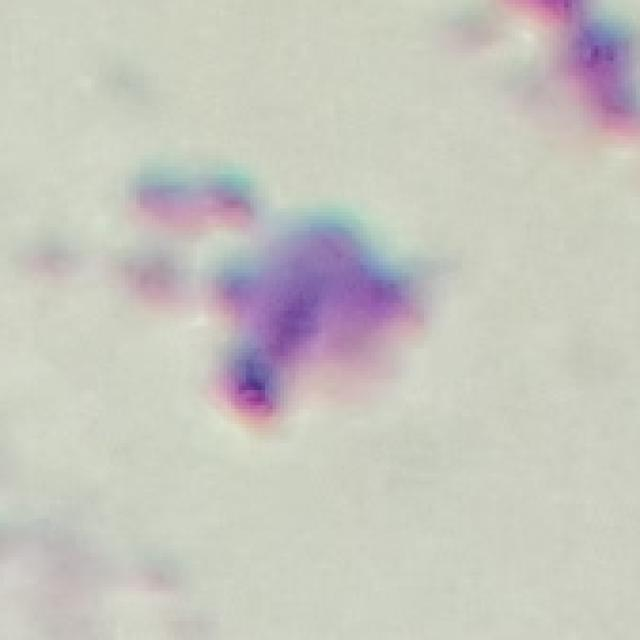non-sperm: (134, 172, 428, 436)
